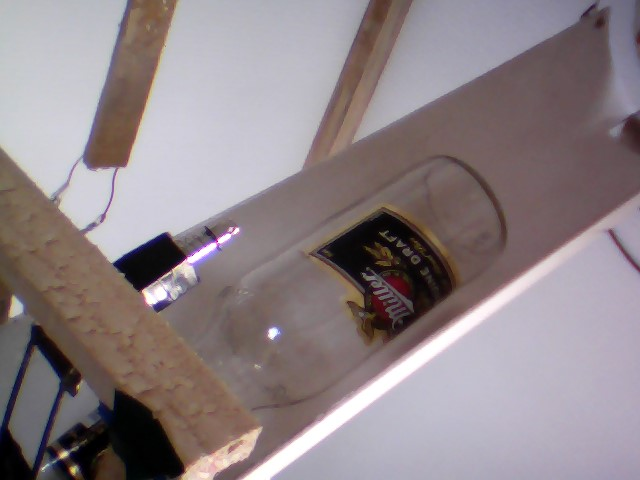vidrio: (187, 148, 513, 421)
